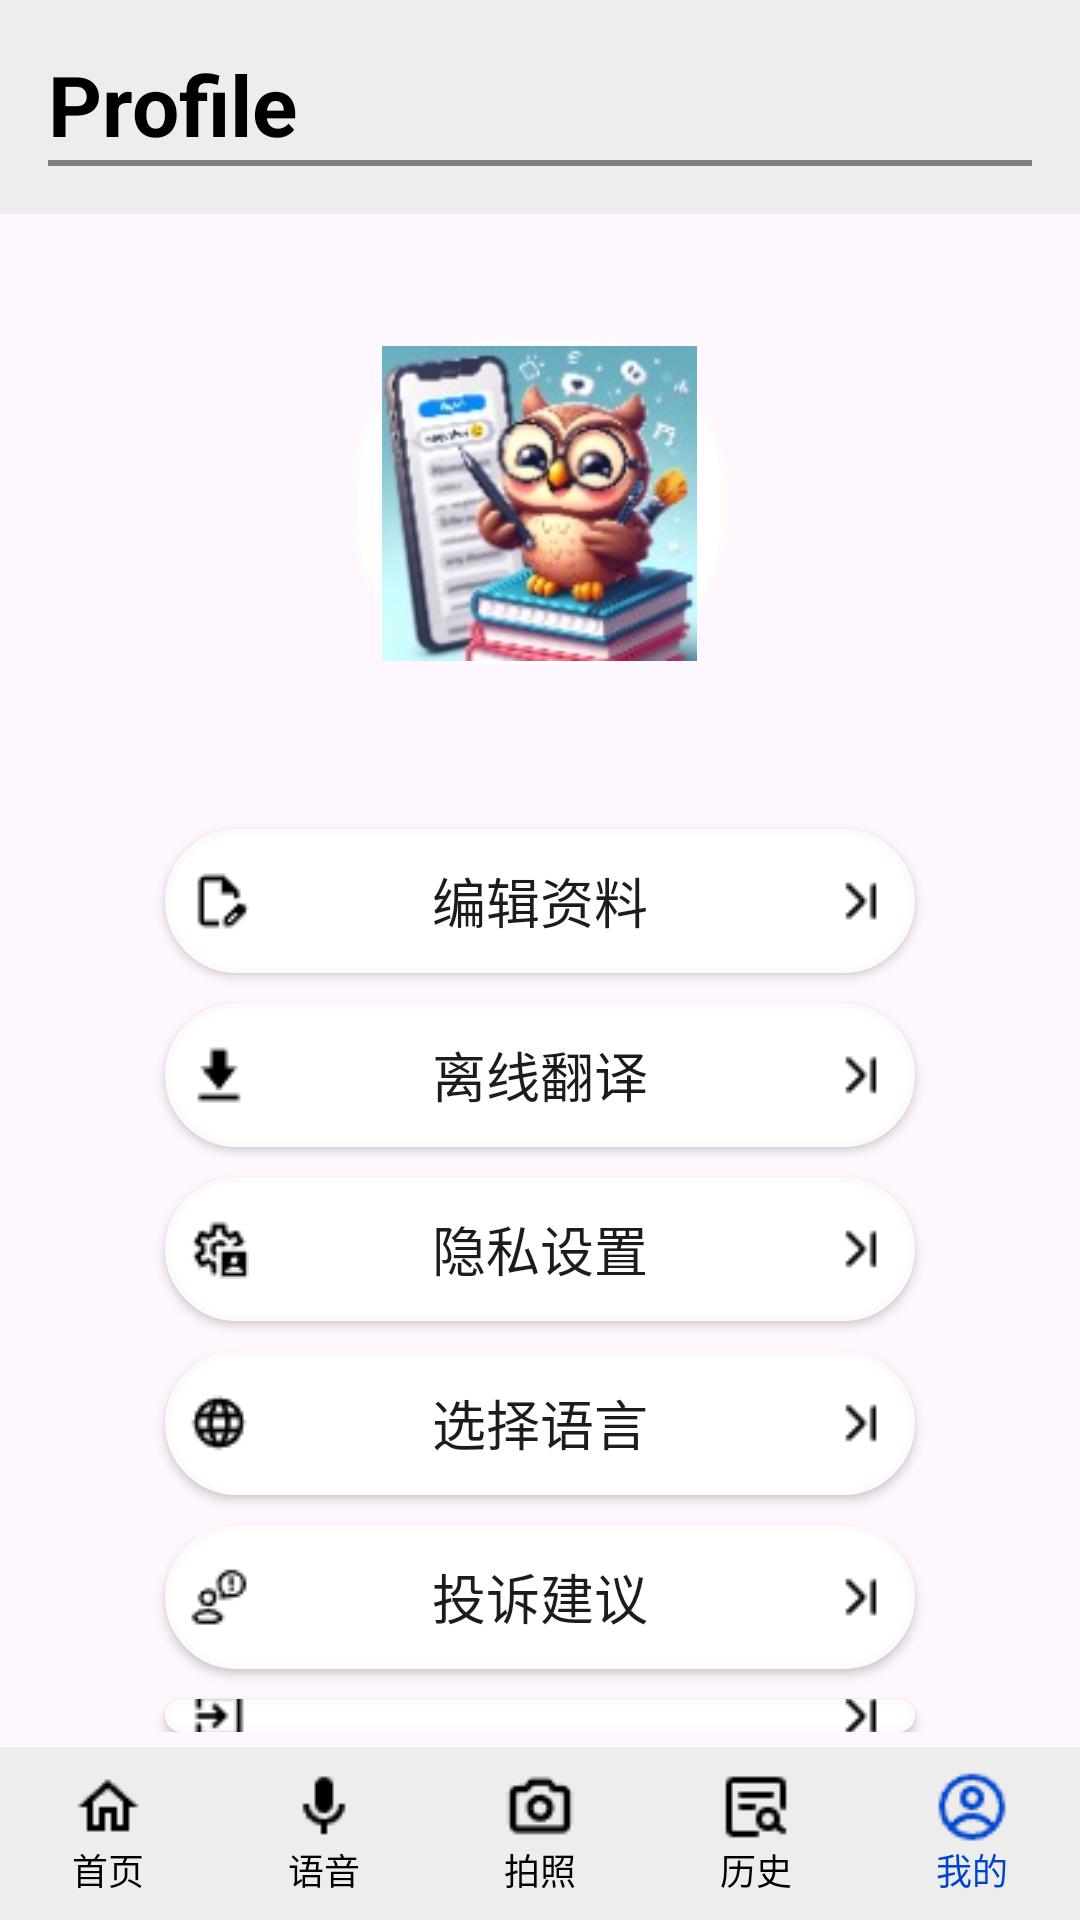

Icon bounding boxes for this 1080×1920 phone screenshot, format (x1, y1, x2, y2):
camera: (508, 1776, 572, 1835)
mic: (302, 1776, 346, 1835)
person: (938, 1773, 1006, 1841)
